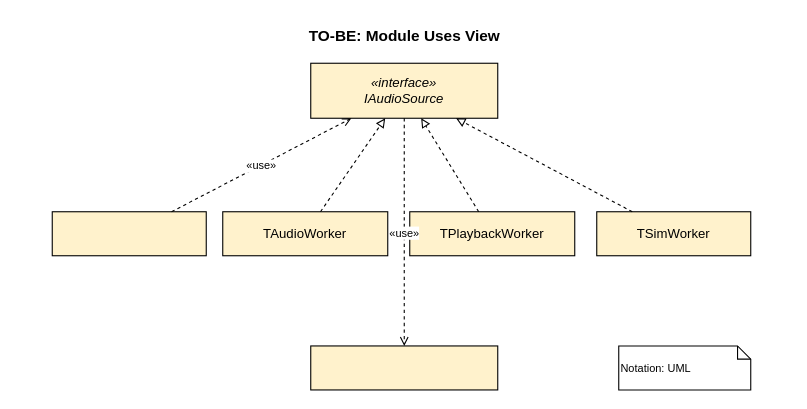
This 807x409 diagram has some shape labels left out. Each missing label, with the centre of its shape:
DSPWorker: (404,367)
MainWindow: (128,233)
